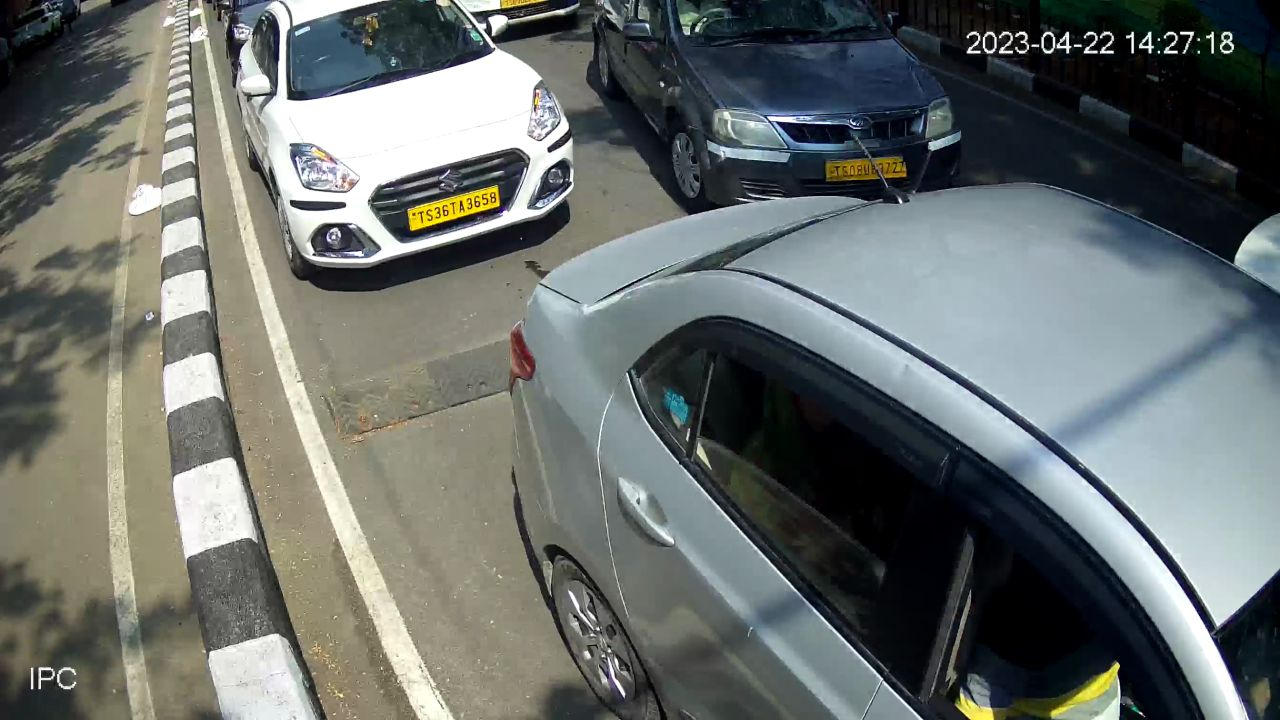license_plate: (403, 178, 506, 240), (821, 150, 915, 188)
